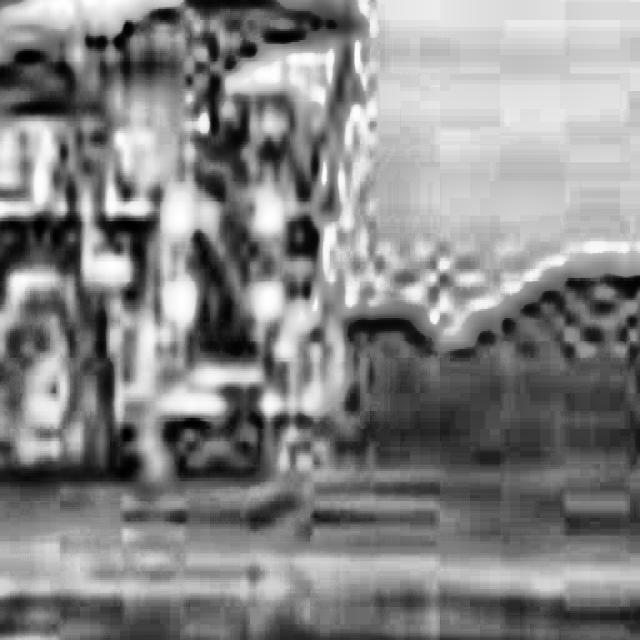dump_truck: (0, 0, 386, 591)
